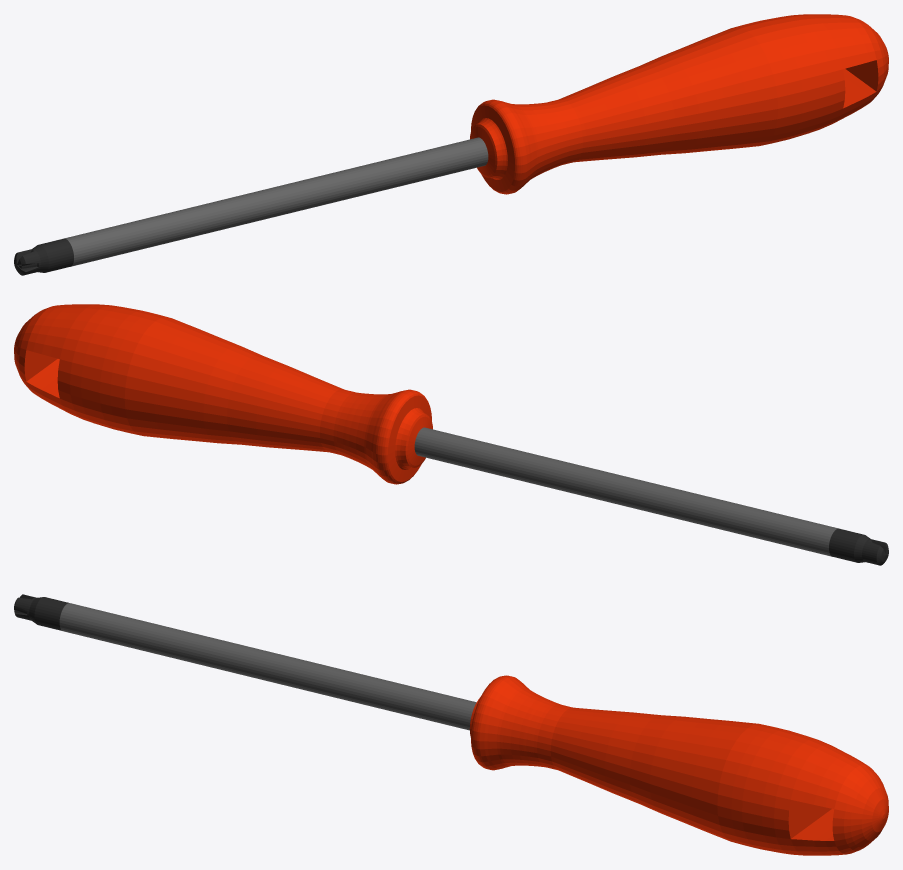
The model's file is screwii.fbx.
3 renders of one model, top to bottom at view 1: azimuth 30°, elevation 25°; view 2: azimuth 150°, elevation 25°; view 3: azimuth 330°, elevation 25°, orthographic.
Visible parts, largest first — view 1: Cylinder; view 2: Cylinder; view 3: Cylinder.
Boxes of the visible parts, bbox=[...] form: Cylinder: bbox=[14, 14, 888, 275]; Cylinder: bbox=[14, 304, 888, 565]; Cylinder: bbox=[14, 594, 888, 855].
Size of the model in its own units: 830 by 102 by 102.
